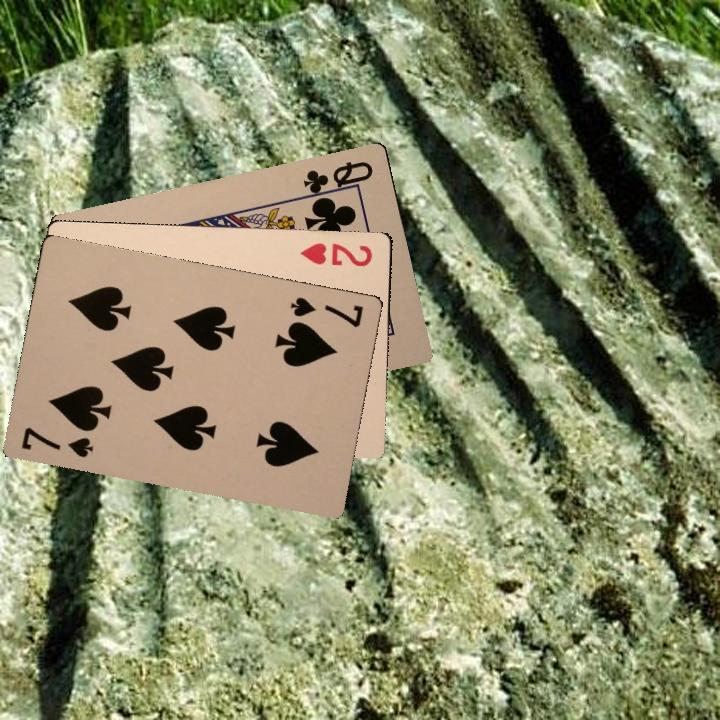2h: (297, 239, 375, 270)
7s: (286, 292, 366, 330), (17, 422, 96, 460)
Qc: (299, 157, 375, 201)
